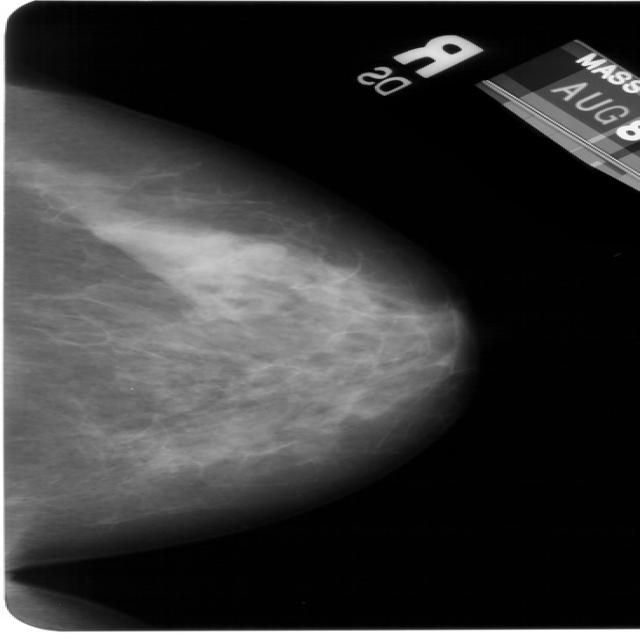tumour: (232, 241, 284, 262)
